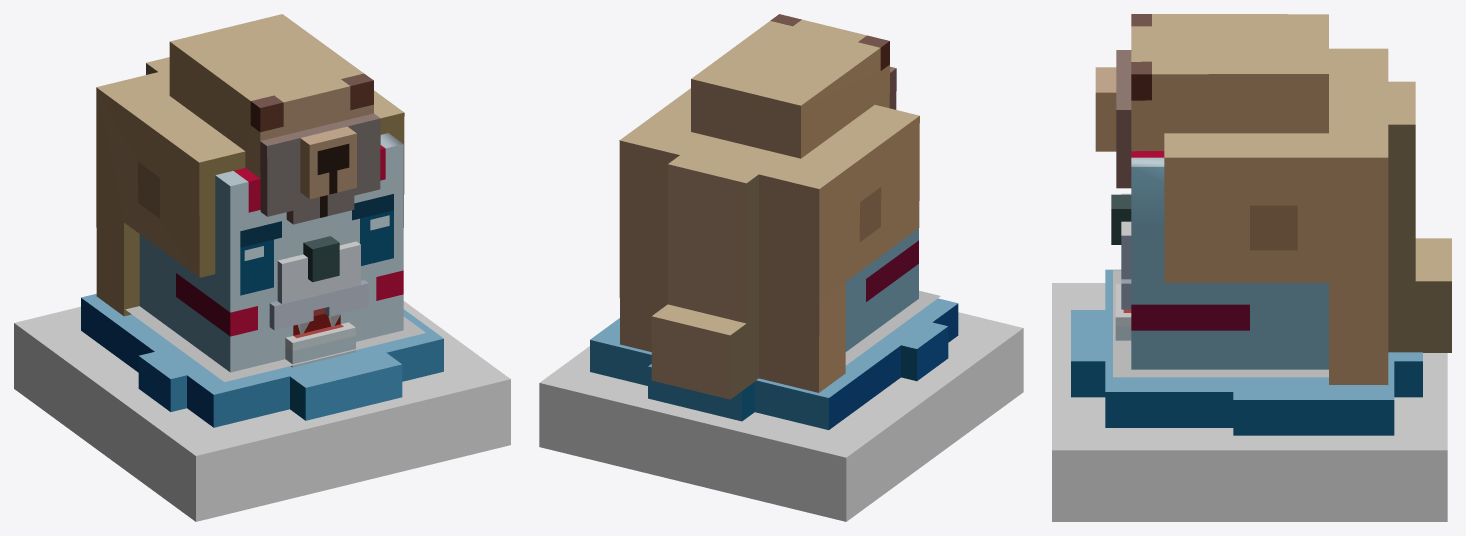
Rendered from Tower_Polar_L3.fbx.
3 renders of one model, left to right at view 1: azimuth 30°, elevation 25°; view 2: azimuth 150°, elevation 25°; view 3: azimuth 270°, elevation 25°, orthographic. The views are drawn at different scales.
Parts seen in each view (by area): view 1: Hat, Base, Body, Platform, Shadow, Jaw; view 2: Hat, Base, Platform, Body, Shadow; view 3: Hat, Base, Body, Platform, Shadow, Jaw.
Part boxes in pixels (x1=…): Hat: x1=96, y1=14, x2=404, y2=316; Base: x1=14, y1=301, x2=510, y2=521; Body: x1=139, y1=133, x2=403, y2=372; Platform: x1=81, y1=293, x2=443, y2=427; Shadow: x1=125, y1=306, x2=425, y2=381; Jaw: x1=285, y1=322, x2=355, y2=367; Hat: x1=619, y1=14, x2=919, y2=399; Base: x1=539, y1=312, x2=1023, y2=521; Platform: x1=590, y1=298, x2=958, y2=429; Body: x1=845, y1=228, x2=918, y2=351; Shadow: x1=845, y1=290, x2=940, y2=365; Hat: x1=1095, y1=14, x2=1451, y2=384; Base: x1=1052, y1=283, x2=1447, y2=521; Body: x1=1111, y1=151, x2=1328, y2=369; Platform: x1=1071, y1=269, x2=1422, y2=435; Shadow: x1=1113, y1=270, x2=1328, y2=377; Jaw: x1=1115, y1=283, x2=1131, y2=340.
Bounding box in the file's own units: 100 × 110 × 101.
